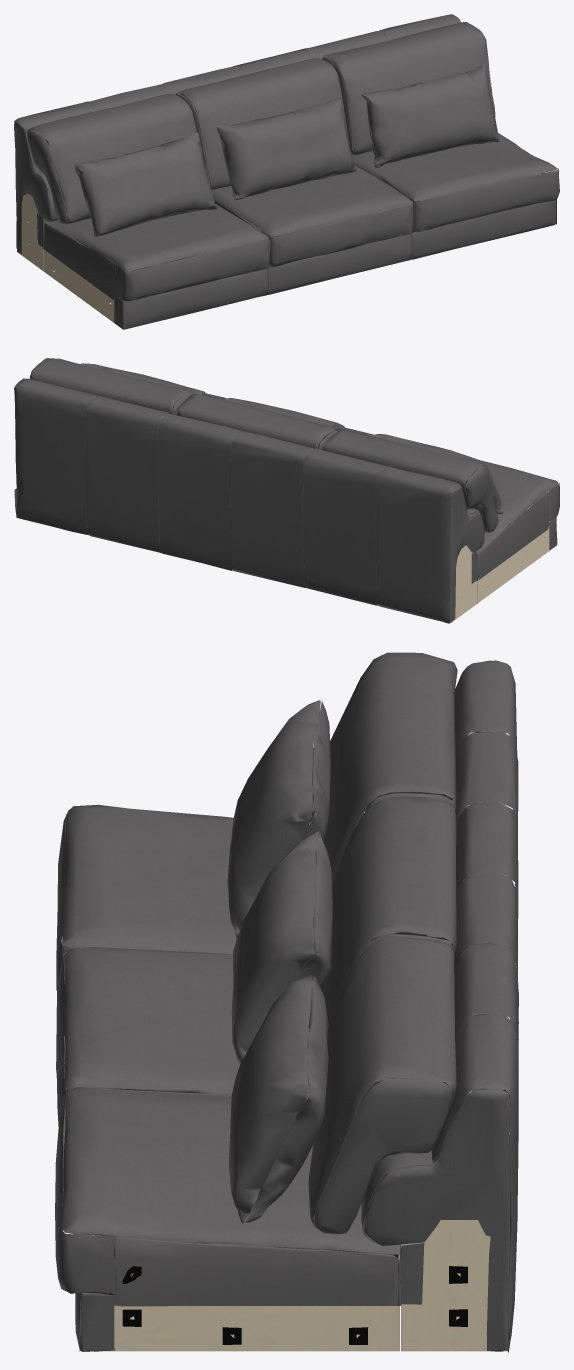
The model's file is ajghki7aeo7p.glb.
3 renders of one model, top to bottom at view 1: azimuth 30°, elevation 25°; view 2: azimuth 150°, elevation 25°; view 3: azimuth 270°, elevation 25°, orthographic. The views are drawn at different scales.
Parts seen in each view (by area): view 1: model; view 2: model; view 3: model.
Part boxes in pixels (bbox=[...]): model: bbox=[14, 14, 559, 329]; model: bbox=[14, 358, 559, 623]; model: bbox=[55, 652, 518, 1352].
Bounding box in the file's own units: 2.15 × 0.6519 × 0.9751.
2 materials, 2 textured.
